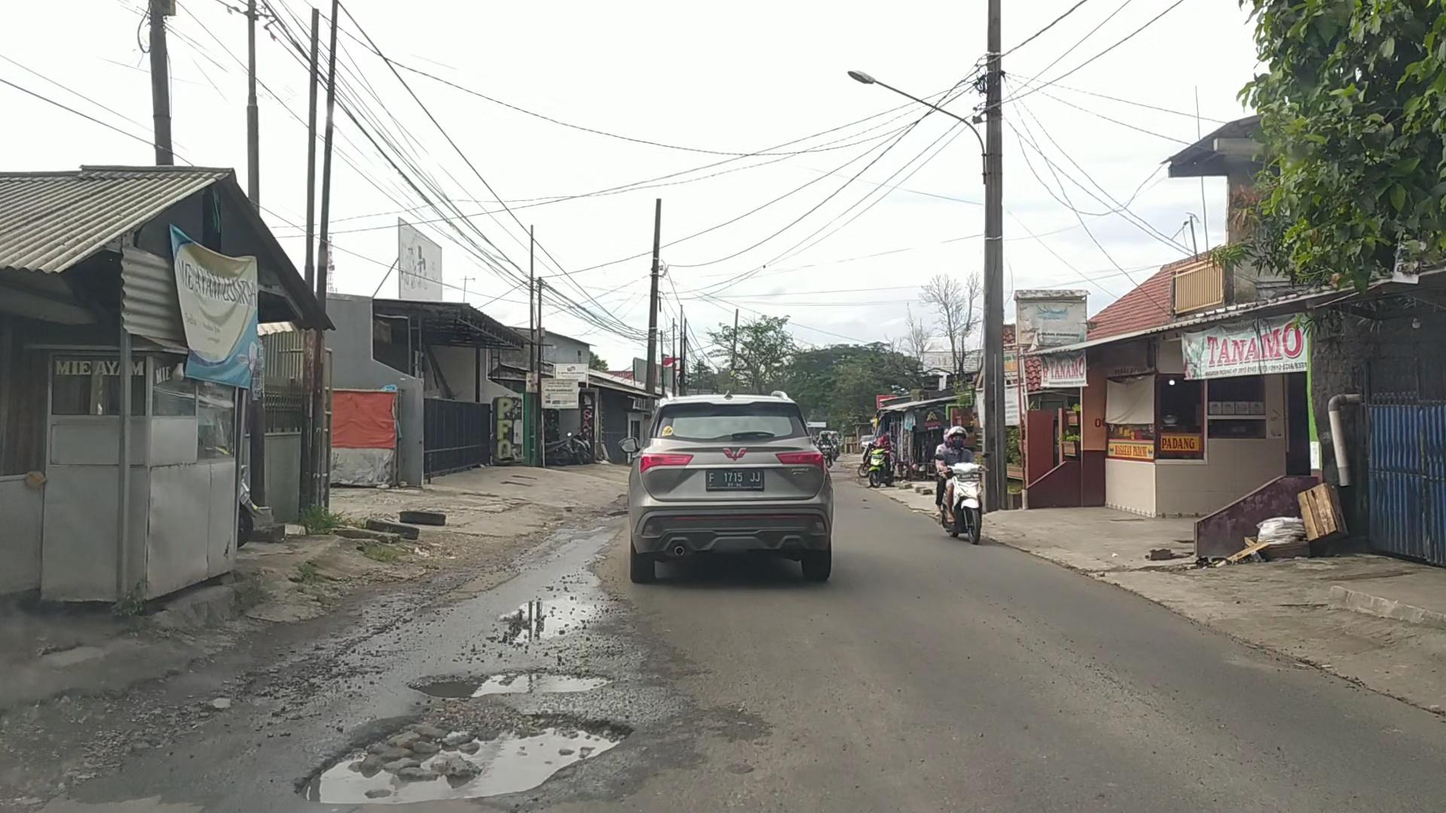pothole: (296, 709, 622, 806), (406, 664, 614, 697), (494, 576, 587, 646)
